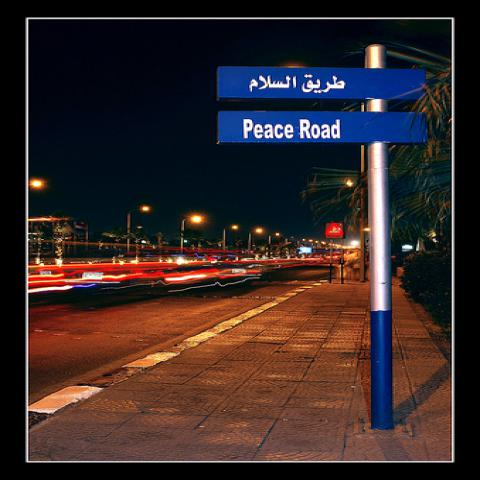car: (163, 258, 261, 292)
